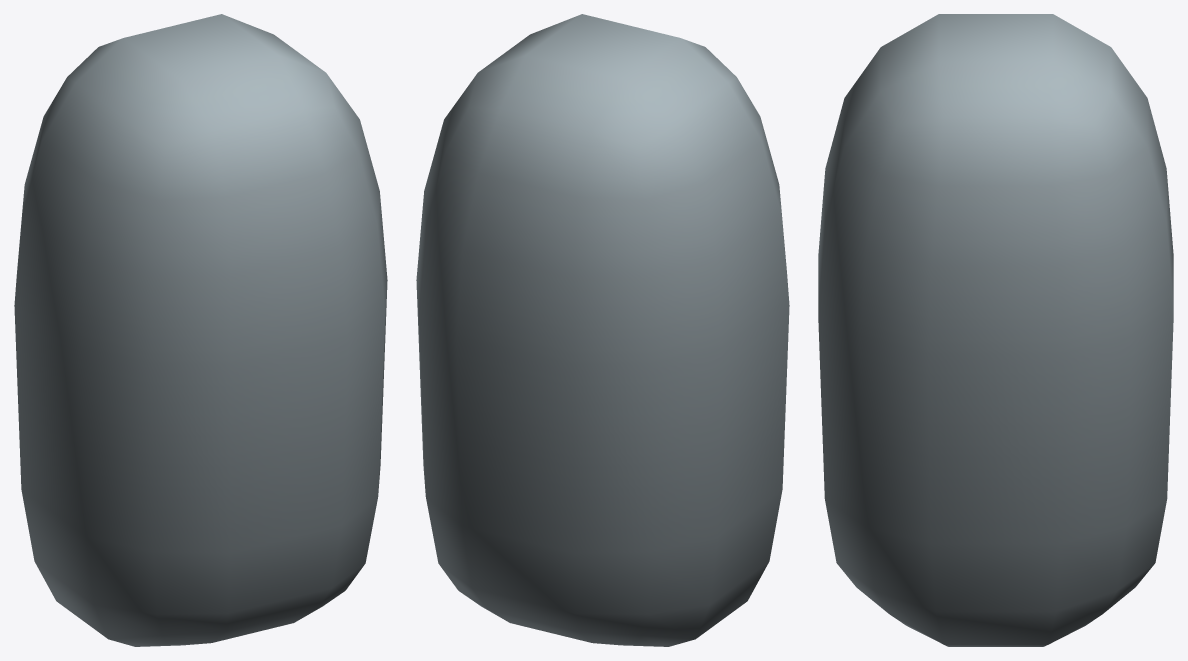
File: Rock_6_D_Color1.gltf
The picture shows the model from 3 angles, left to right: view 1: azimuth 30°, elevation 25°; view 2: azimuth 150°, elevation 25°; view 3: azimuth 270°, elevation 25°; orthographic projection.
Parts seen in each view (by area): view 1: Rock_6_D_Color1; view 2: Rock_6_D_Color1; view 3: Rock_6_D_Color1.
Boxes of the visible parts, x1,y1,x2,y2 form: Rock_6_D_Color1: (14,14,387,646); Rock_6_D_Color1: (416,14,789,646); Rock_6_D_Color1: (818,14,1173,646).
Size of the model in its own units: 0.8757 by 1.56 by 0.8757.
Materials: 1 (1 with a texture image).
